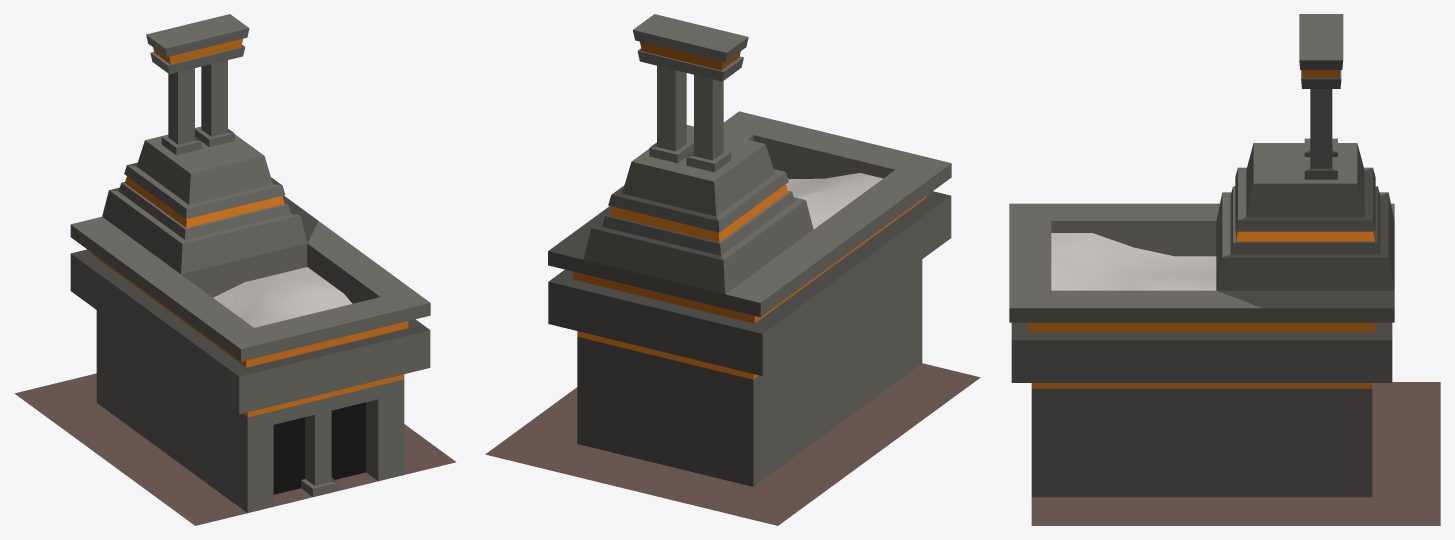
The model's file is Deboner-lvl002.fbx.
The picture shows the model from 3 angles, left to right: view 1: azimuth 30°, elevation 25°; view 2: azimuth 150°, elevation 25°; view 3: azimuth 270°, elevation 25°; orthographic projection. The views are drawn at different scales.
Parts seen in each view (by area): view 1: Deboner.005; view 2: Deboner.005; view 3: Deboner.005.
Boxes of the visible parts, box(x1,y1,x2,y2) form: Deboner.005: box(14, 14, 456, 525); Deboner.005: box(485, 14, 980, 525); Deboner.005: box(1009, 14, 1440, 525).
Bounding box in the file's own units: 500 × 674 × 632.
